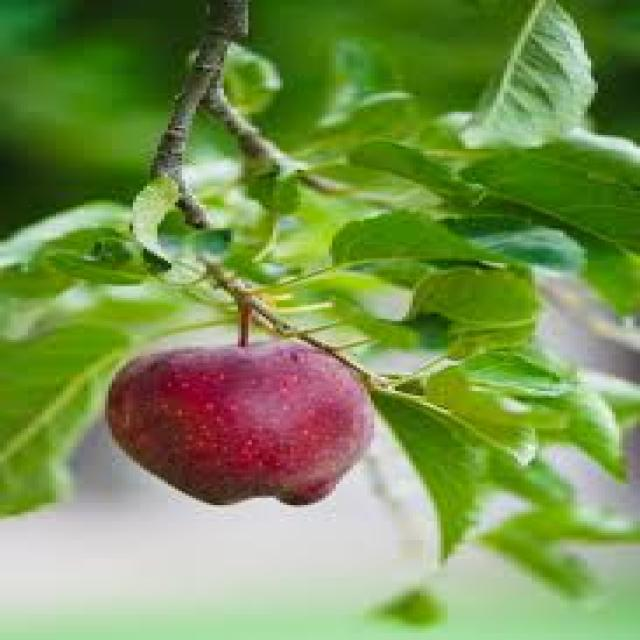apple: (102, 326, 400, 523)
